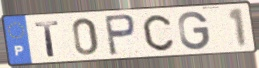0: (71, 16, 102, 58)
1: (227, 7, 248, 50)
C: (141, 13, 176, 53)
G: (176, 10, 211, 52)
P: (103, 13, 138, 57)
T: (33, 20, 62, 59)
